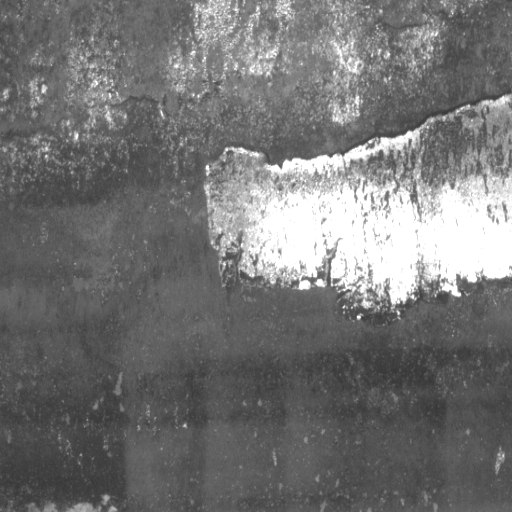qiaopi: (200, 90, 511, 326)
